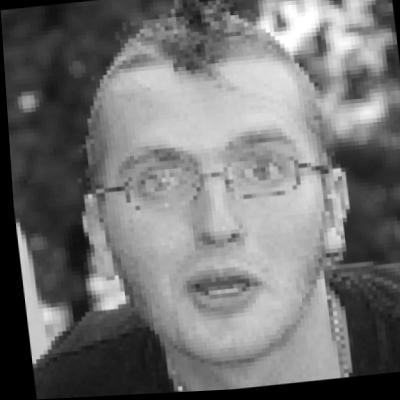surprise: (79, 35, 338, 365)
